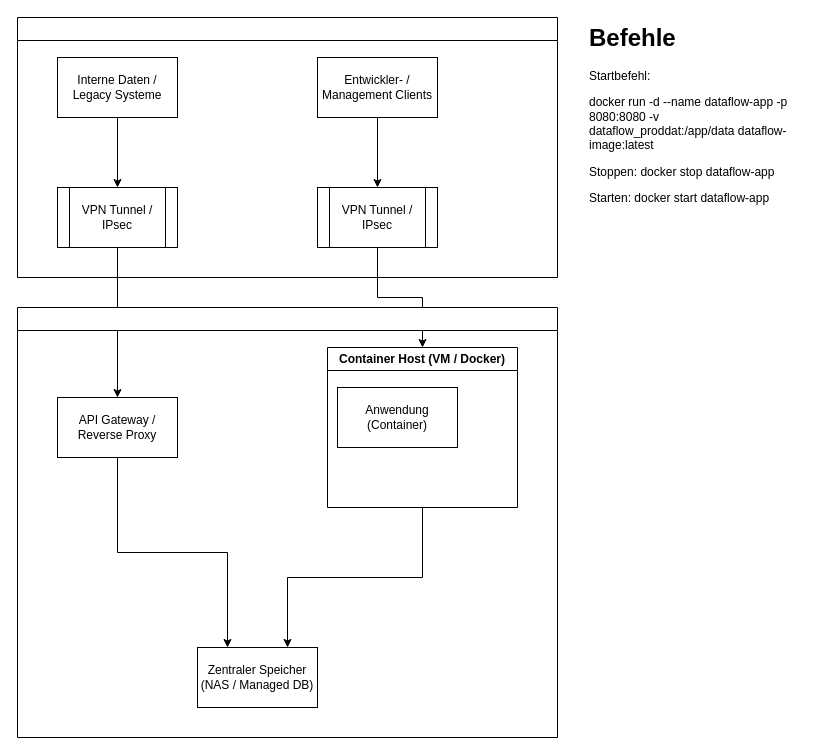
Image size: 825x755. Some labels were removed from this diagram. Each missing label, with the centre of its shape:
Cloud Umgebung: the point at 287,522
On Prem (Lokale Infrastruktur): the point at 287,147
